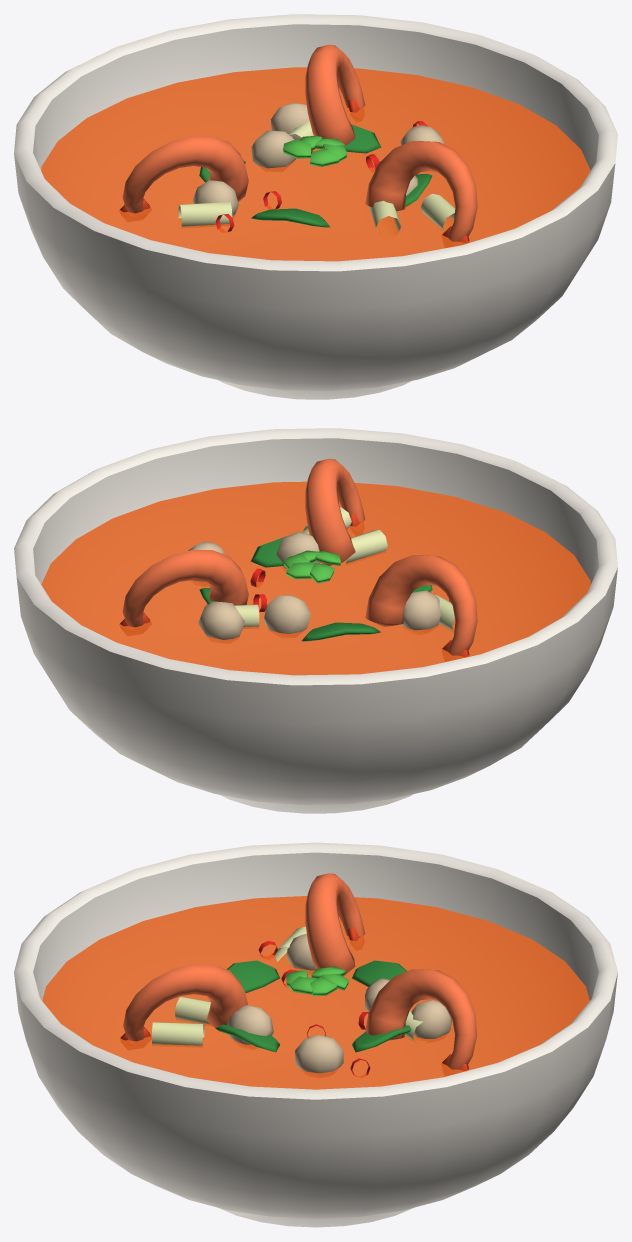
3 views of the same model, one above another, from view 1: azimuth 30°, elevation 25°; view 2: azimuth 150°, elevation 25°; view 3: azimuth 270°, elevation 25° (orthographic).
Visible parts, largest first — view 1: bowl_outer, surface, bowl_inner, bowl_rim, shrimp, mushroom, lemongrass, lime_leaf, cilantro, chili; view 2: bowl_outer, surface, bowl_inner, bowl_rim, shrimp, mushroom, lemongrass, lime_leaf, cilantro; view 3: bowl_outer, surface, bowl_inner, bowl_rim, shrimp, mushroom, lime_leaf, lemongrass, cilantro.
Boxes of the visible parts, box(x1,y1,x2,y2) form: bowl_outer: box(14, 154, 615, 399); surface: box(41, 67, 590, 261); bowl_inner: box(33, 24, 598, 170); bowl_rim: box(14, 14, 617, 271); shrimp: box(122, 44, 477, 241); mushroom: box(193, 102, 443, 216); lemongrass: box(178, 121, 455, 232); lime_leaf: box(199, 124, 432, 227); cilantro: box(283, 136, 347, 166); chili: box(215, 121, 427, 231); bowl_outer: box(16, 568, 617, 813); surface: box(41, 481, 590, 675); bowl_inner: box(33, 438, 598, 584); bowl_rim: box(14, 428, 617, 685); shrimp: box(122, 458, 477, 655); mushroom: box(188, 531, 440, 639); lemongrass: box(234, 507, 454, 631); lime_leaf: box(199, 536, 432, 641); cilantro: box(283, 550, 340, 583); bowl_outer: box(14, 973, 617, 1227); surface: box(42, 896, 589, 1089); bowl_inner: box(33, 852, 598, 1000); bowl_rim: box(14, 842, 617, 1099); shrimp: box(123, 873, 477, 1069); mushroom: box(227, 933, 451, 1073); lime_leaf: box(215, 960, 411, 1052); lemongrass: box(152, 926, 423, 1045); cilantro: box(286, 966, 348, 996).
Bounding box in the file's own units: 0.19 × 0.0818 × 0.19.
